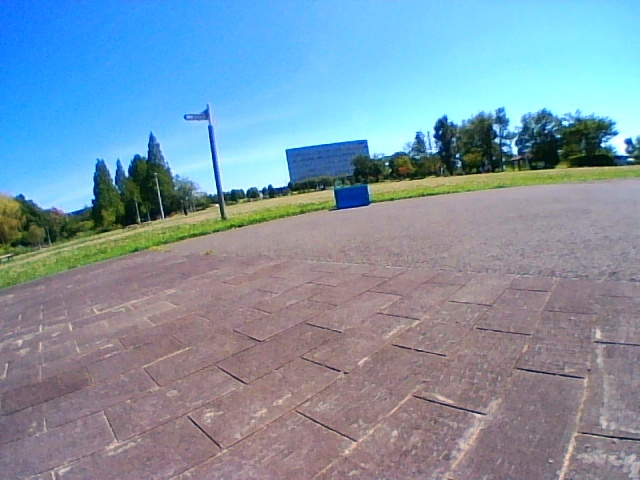blue_box: (335, 186, 368, 209)
